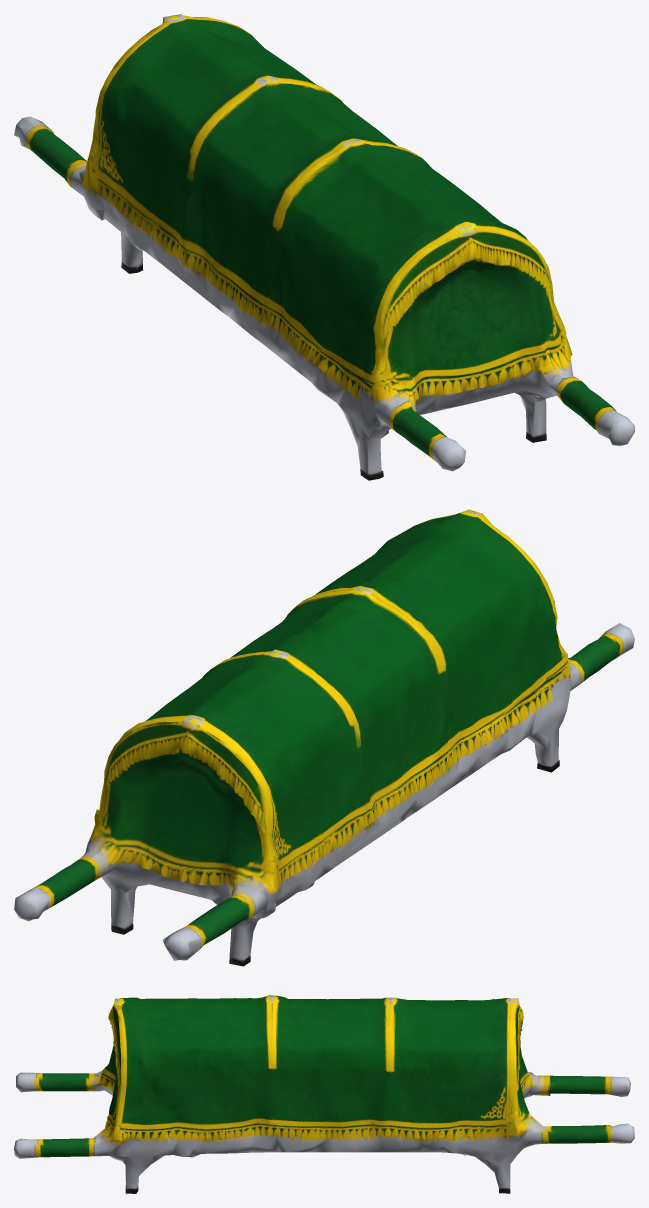
The model's file is rawa-keranda.glb.
3 views of the same model, one above another, from view 1: azimuth 30°, elevation 25°; view 2: azimuth 150°, elevation 25°; view 3: azimuth 270°, elevation 25° (orthographic). The views are drawn at different scales.
Visible parts, largest first — view 1: tripo_node_53a64bd4-dac5-4cd4-9609-7028a3f826ee; view 2: tripo_node_53a64bd4-dac5-4cd4-9609-7028a3f826ee; view 3: tripo_node_53a64bd4-dac5-4cd4-9609-7028a3f826ee.
Boxes of the visible parts, bbox=[...] form: tripo_node_53a64bd4-dac5-4cd4-9609-7028a3f826ee: bbox=[14, 14, 634, 480]; tripo_node_53a64bd4-dac5-4cd4-9609-7028a3f826ee: bbox=[14, 509, 634, 966]; tripo_node_53a64bd4-dac5-4cd4-9609-7028a3f826ee: bbox=[14, 995, 634, 1193].
Size of the model in its own units: 0.2588 by 0.2983 by 1.
1 material, 1 textured.
